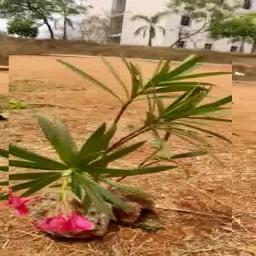OLEANDER: (9, 54, 233, 242)
